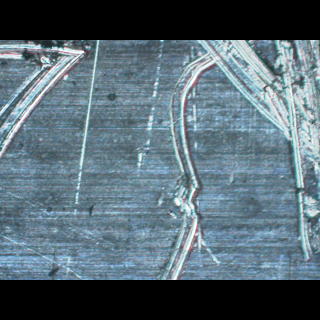d: (197, 40, 319, 262), (155, 42, 228, 279), (0, 39, 95, 210)
